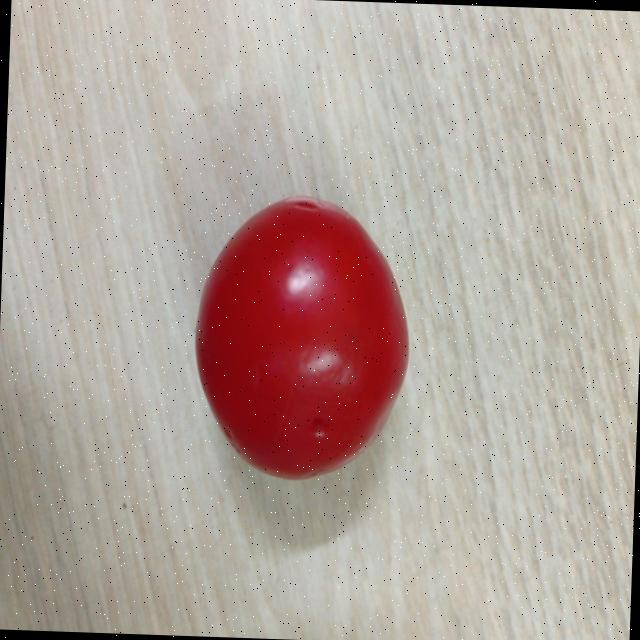Ripe: (186, 193, 416, 487)
